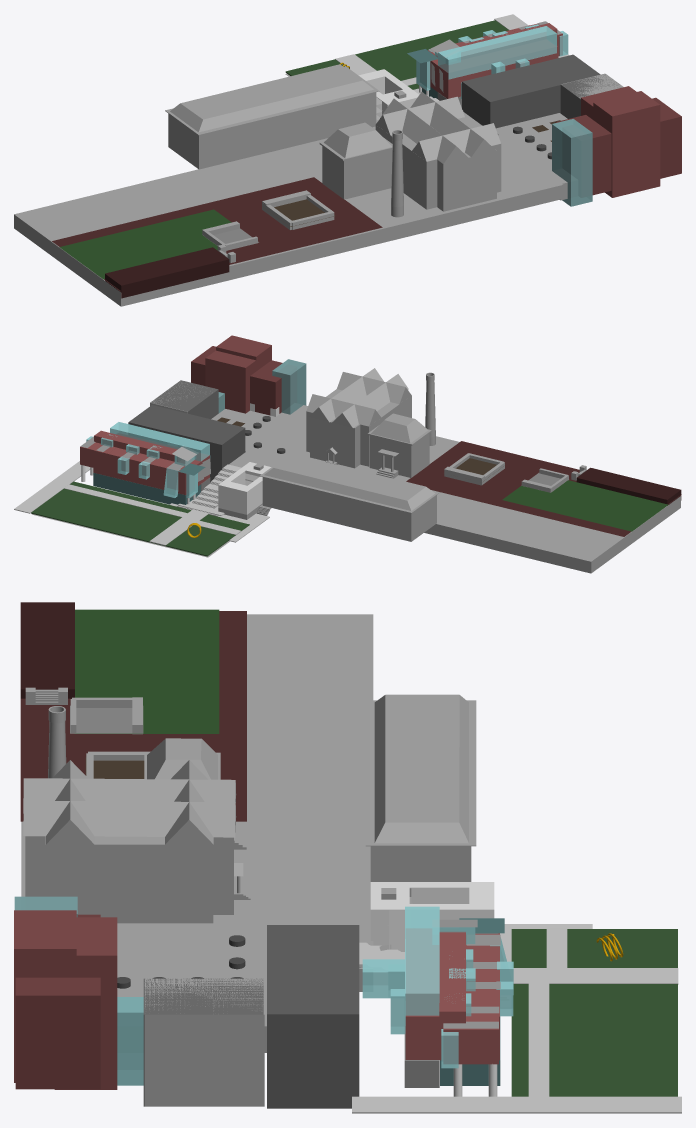
The model's file is techmaplit.fbx.
3 views of the same model, one above another, from view 1: azimuth 30°, elevation 25°; view 2: azimuth 150°, elevation 25°; view 3: azimuth 270°, elevation 25° (orthographic). The views are drawn at different scales.
Parts seen in each view (by area): view 1: secondlevel, pPlane2, whistle:house3, whistle:house_top_2, pasted__pCube5, pasted__pCube8, pPlane4, toppart, topsquare, pCube9, pasted__pCube9, urmomsmith:pCube1 (+18 smaller); view 2: secondlevel, techgreen1, pPlane2, whistle:house3, pPlane4, whistle:house_top_2, pasted__pCube5, culcbase, pCube8, urmomsmith:pCube1, pCube9, whistle:house1 (+25 smaller); view 3: secondlevel, techgreen1, pasted__pCube5, pPlane4, whistle:house_top_2, pCube11, urmomsmith:pCube2, pPlane2, pCube9, urmomsmith:pasted__pasted__pasted__pPrism1, pasted__pCube3, culcbase (+27 smaller).
Part boxes in pixels (bbox=[...]): secondlevel: bbox=[14, 112, 563, 306]; pPlane2: bbox=[52, 177, 382, 291]; whistle:house3: bbox=[168, 92, 376, 169]; whistle:house_top_2: bbox=[170, 64, 373, 132]; pasted__pCube5: bbox=[462, 54, 600, 128]; pasted__pCube8: bbox=[593, 91, 660, 197]; pPlane4: bbox=[59, 209, 231, 279]; toppart: bbox=[438, 26, 556, 79]; topsquare: bbox=[105, 247, 229, 298]; pCube9: bbox=[555, 97, 681, 195]; pasted__pCube9: bbox=[552, 119, 592, 206]; urmomsmith:pCube1: bbox=[380, 117, 496, 211]; secondlevel: bbox=[219, 407, 680, 573]; techgreen1: bbox=[31, 481, 249, 556]; pPlane2: bbox=[406, 441, 681, 536]; whistle:house3: bbox=[262, 477, 436, 541]; pPlane4: bbox=[502, 480, 668, 531]; whistle:house_top_2: bbox=[264, 454, 434, 510]; pasted__pCube5: bbox=[128, 405, 245, 481]; culcbase: bbox=[93, 433, 209, 495]; pCube8: bbox=[205, 350, 261, 413]; urmomsmith:pCube1: bbox=[310, 402, 389, 468]; pCube9: bbox=[191, 346, 282, 415]; whistle:house1: bbox=[369, 433, 429, 477]; secondlevel: bbox=[21, 614, 373, 991]; techgreen1: bbox=[511, 929, 677, 1096]; pasted__pCube5: bbox=[267, 925, 359, 1108]; pPlane4: bbox=[75, 609, 219, 733]; whistle:house_top_2: bbox=[374, 694, 468, 843]; pCube11: bbox=[144, 978, 264, 1106]; urmomsmith:pCube2: bbox=[45, 836, 213, 923]; pPlane2: bbox=[20, 611, 246, 821]; pCube9: bbox=[15, 914, 100, 1089]; urmomsmith:pasted__pasted__pasted__pPrism1: bbox=[23, 800, 236, 837]; pasted__pCube3: bbox=[352, 1096, 681, 1113]; culcbase: bbox=[405, 928, 499, 1060].
Bounding box in the file's own units: 117 × 21.19 × 69.49.
